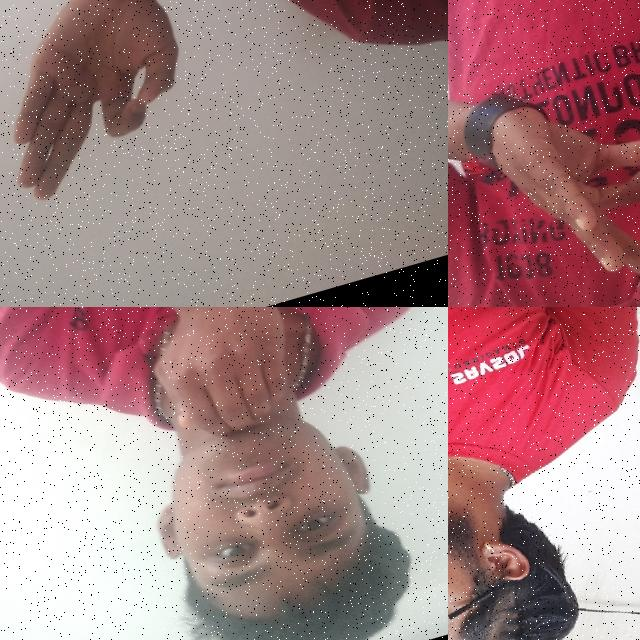Chin Flick: (64, 307, 444, 640), (448, 397, 582, 640)
Okay: (0, 0, 219, 213), (467, 49, 640, 307)
